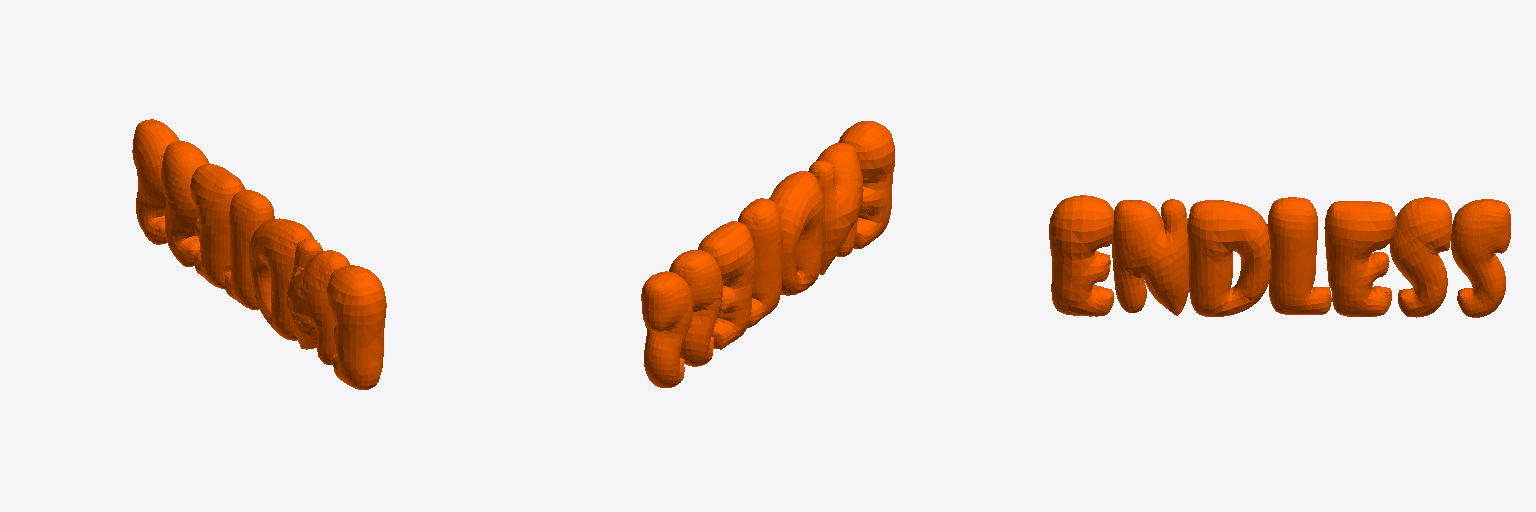
The model's file is 08_endless.obj.
3 views of the same model, side by side, from view 1: azimuth 30°, elevation 25°; view 2: azimuth 150°, elevation 25°; view 3: azimuth 270°, elevation 25° (orthographic).
Parts seen in each view (by area): view 1: _endless:endless; view 2: _endless:endless; view 3: _endless:endless.
Part boxes in pixels (left/top/right/bottom): _endless:endless: left=132, top=119, right=386, bottom=389; _endless:endless: left=641, top=121, right=894, bottom=387; _endless:endless: left=1049, top=195, right=1510, bottom=317.
Bounding box in the file's own units: 0.1709 × 0.3719 × 1.31.